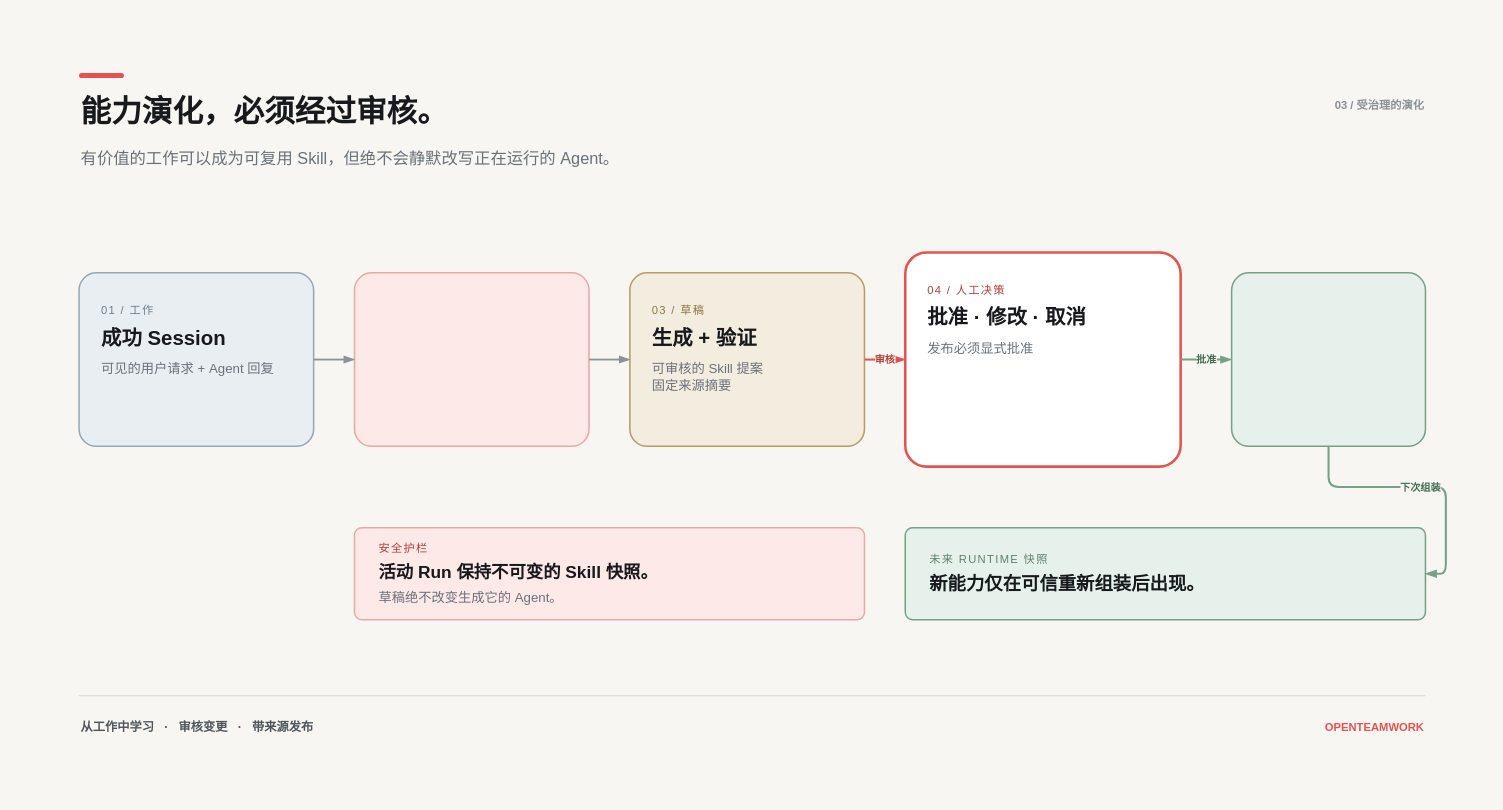
This 1503x810 diagram has some shape labels left out. Here are the shapes that lost their labels. From the top down, the box of each, then its label:
(353, 272, 589, 447): 02 / /MAKE-SKILL 捕获 + 脱敏 范围受限的证据 移除密钥 + 本地路径
(1230, 272, 1426, 447): 05 / 发布 版本化 Skill 摘要 + 来源 为该 Agent 启用
